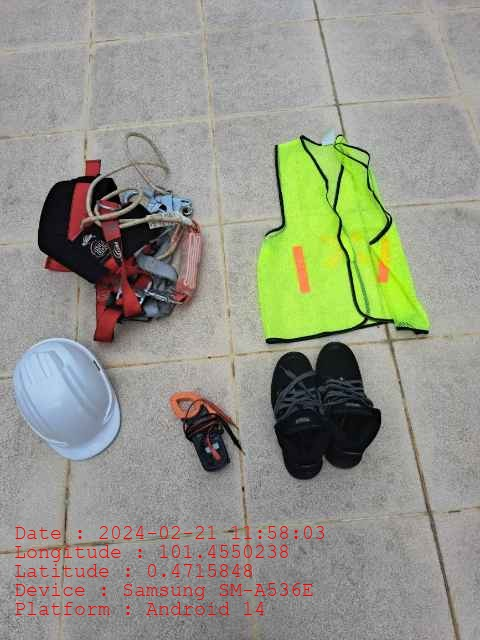HELM: (12, 339, 121, 462)
ROMPI: (258, 132, 431, 346)
SEPATU: (271, 340, 381, 479)
TAMBANG_SLING: (85, 131, 201, 317)
